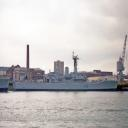Fragata: (14, 53, 120, 93)
